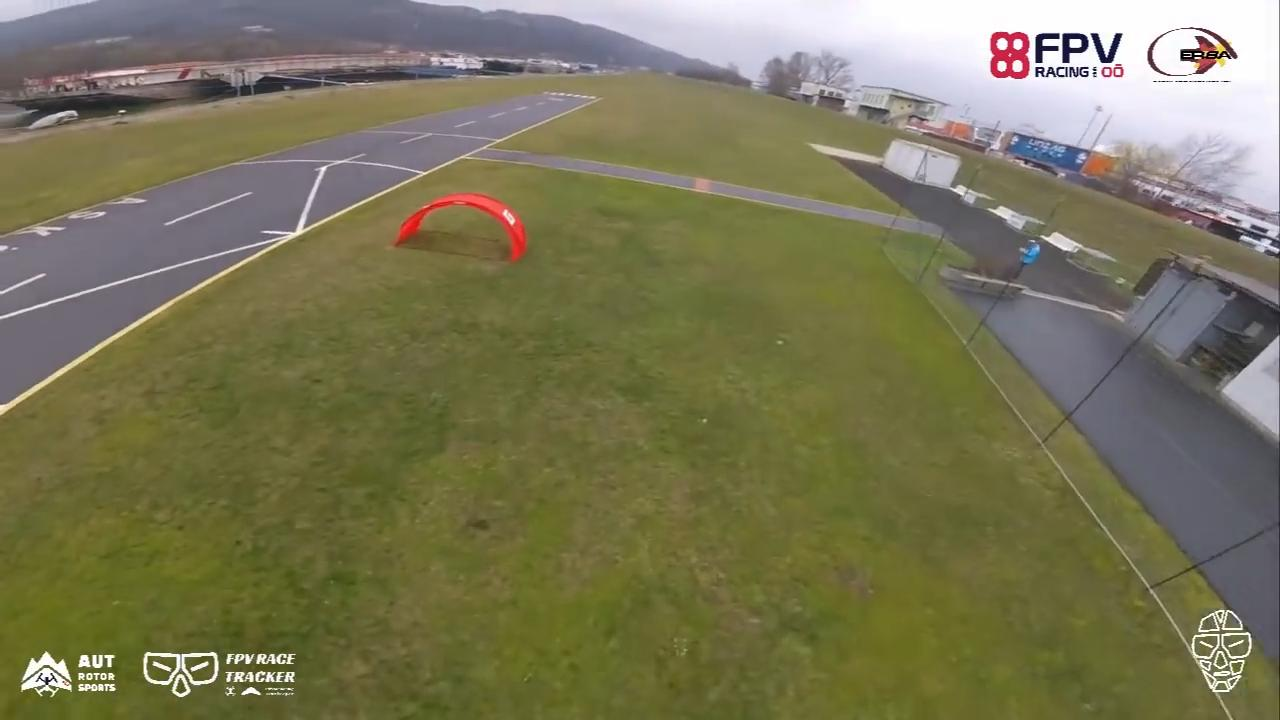gate: (391, 192, 527, 268)
